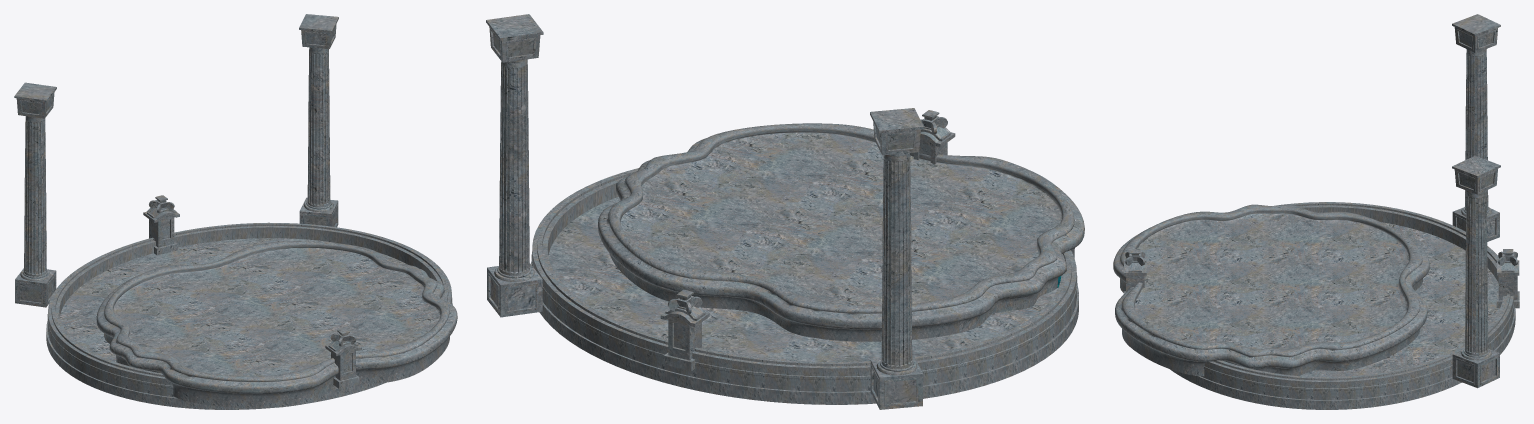
The model's file is 0016_Bountain01New.obj.
The picture shows the model from 3 angles, left to right: view 1: azimuth 30°, elevation 25°; view 2: azimuth 150°, elevation 25°; view 3: azimuth 270°, elevation 25°; orthographic projection. The views are drawn at different scales.
Parts seen in each view (by area): view 1: pool_Mesh.011, pilar1_Mesh.013, pilar_Mesh.012, lamp18_Mesh.005, buildingRender:building:lamp18_Mesh.006; view 2: pool_Mesh.011, pilar_Mesh.012, pilar1_Mesh.013, lamp18_Mesh.005, buildingRender:building:lamp18_Mesh.006; view 3: pool_Mesh.011, pilar_Mesh.012, pilar1_Mesh.013, lamp18_Mesh.005, buildingRender:building:lamp18_Mesh.006.
Part boxes in pixels (bbox=[...]): pool_Mesh.011: bbox=[46, 222, 457, 409]; pilar1_Mesh.013: bbox=[14, 82, 56, 307]; pilar_Mesh.012: bbox=[299, 14, 338, 227]; lamp18_Mesh.005: bbox=[143, 195, 179, 255]; buildingRender:building:lamp18_Mesh.006: bbox=[325, 328, 361, 388]; pool_Mesh.011: bbox=[531, 123, 1084, 404]; pilar_Mesh.012: bbox=[486, 14, 543, 317]; pilar1_Mesh.013: bbox=[870, 108, 923, 409]; lamp18_Mesh.005: bbox=[660, 289, 709, 371]; buildingRender:building:lamp18_Mesh.006: bbox=[913, 110, 955, 164]; pool_Mesh.011: bbox=[1113, 202, 1515, 409]; pilar_Mesh.012: bbox=[1452, 155, 1500, 388]; pilar1_Mesh.013: bbox=[1452, 14, 1500, 241]; lamp18_Mesh.005: bbox=[1496, 249, 1519, 308]; buildingRender:building:lamp18_Mesh.006: bbox=[1123, 249, 1146, 293].
Size of the model in its own units: 301 by 173 by 285.
Materials: 2 (2 with a texture image).
